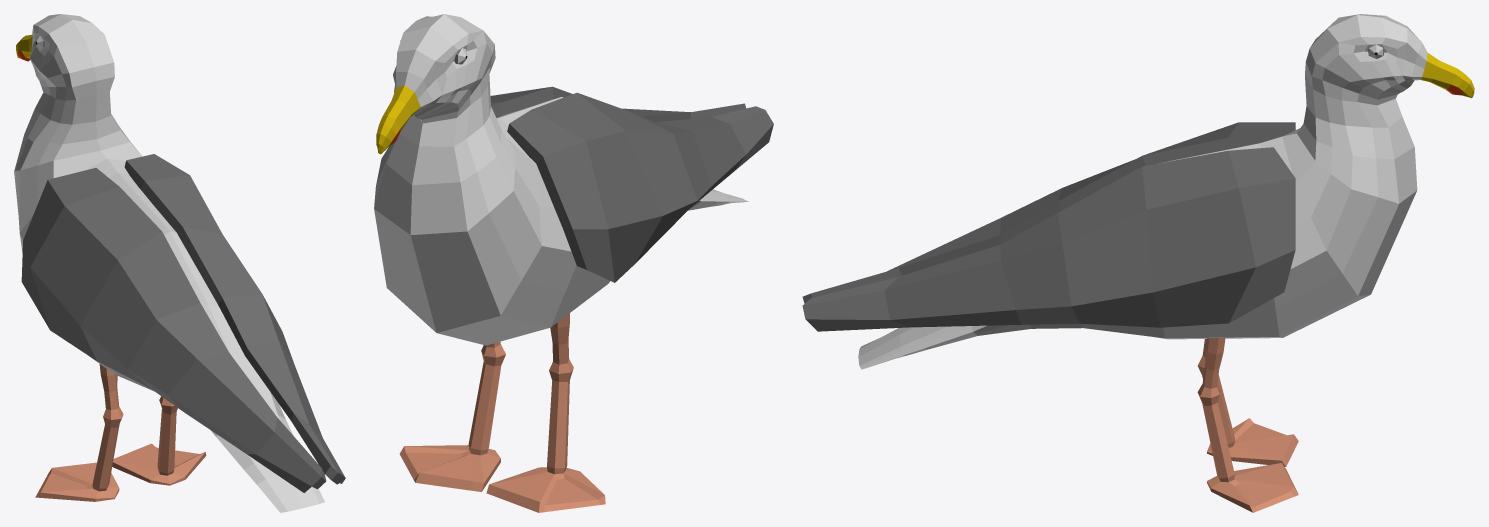
File: gull.gltf
3 renders of one model, left to right at view 1: azimuth 30°, elevation 25°; view 2: azimuth 150°, elevation 25°; view 3: azimuth 270°, elevation 25°, orthographic. The views are drawn at different scales.
Visible parts, largest first — view 1: gull.wings, gull.body, gull.legs; view 2: gull.body, gull.wings, gull.legs; view 3: gull.wings, gull.body, gull.legs.
Boxes of the visible parts, box(x1,y1,x2,y2) form: gull.wings: box(21, 154, 345, 492); gull.body: box(14, 14, 324, 512); gull.legs: box(35, 364, 206, 501); gull.body: box(374, 14, 748, 345); gull.wings: box(490, 86, 773, 282); gull.legs: box(399, 313, 605, 512); gull.wings: box(802, 122, 1295, 331); gull.body: box(858, 14, 1474, 369); gull.legs: box(1197, 338, 1298, 512).
Size of the model in its own units: 0.1895 by 0.4286 by 0.576.
